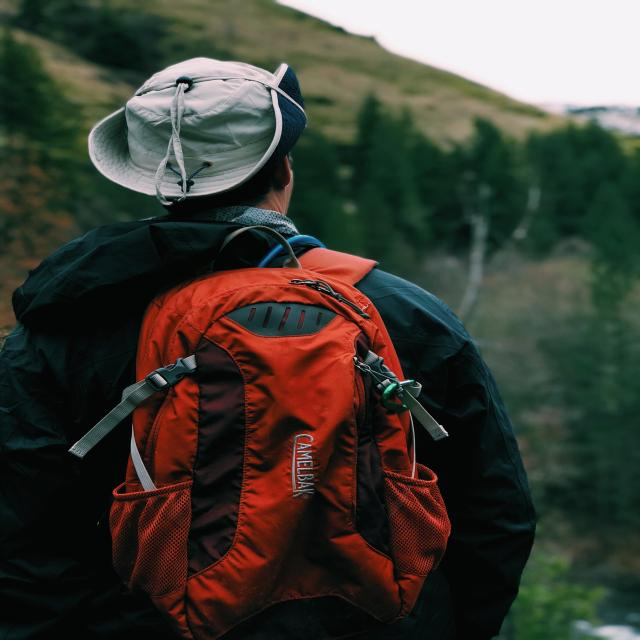backpack: (105, 225, 446, 640)
